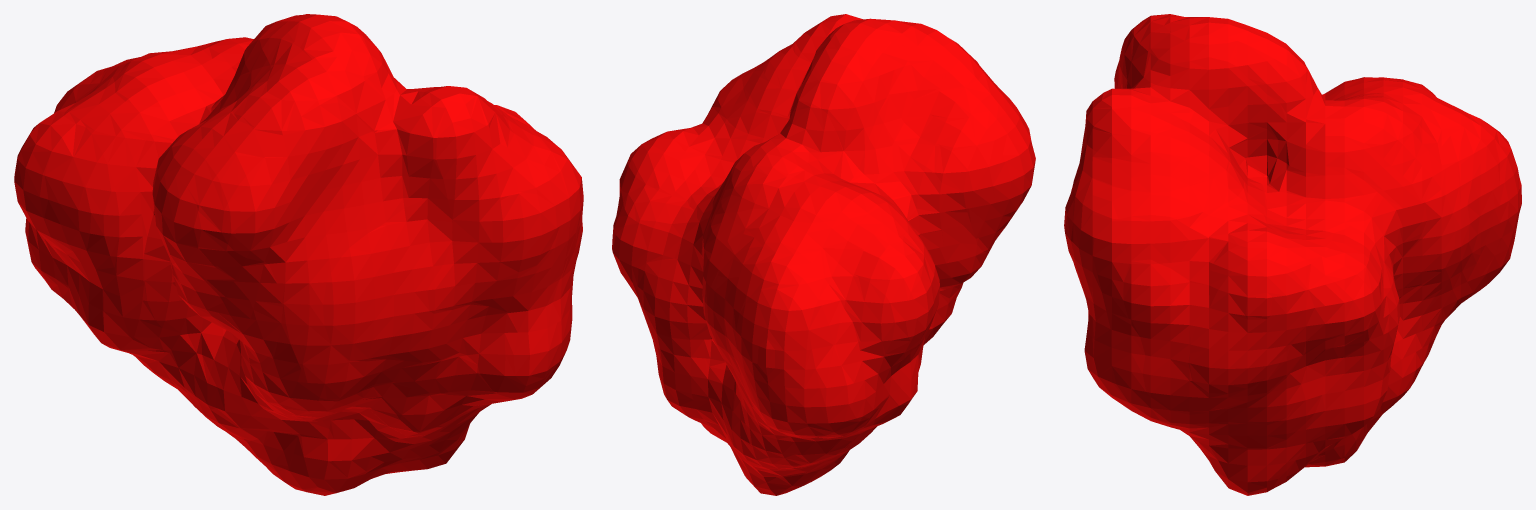
File: yebC_coarse.dae
3 views of the same model, side by side, from view 1: azimuth 30°, elevation 25°; view 2: azimuth 150°, elevation 25°; view 3: azimuth 270°, elevation 25° (orthographic). The views are drawn at different scales.
Parts seen in each view (by area): view 1: yebC; view 2: yebC; view 3: yebC.
Part boxes in pixels (<box>): yebC: <box>14,14,583,495</box>; yebC: <box>612,14,1035,495</box>; yebC: <box>1064,14,1521,495</box>.
Bounding box in the file's own units: 47.69 × 52.79 × 51.1.
